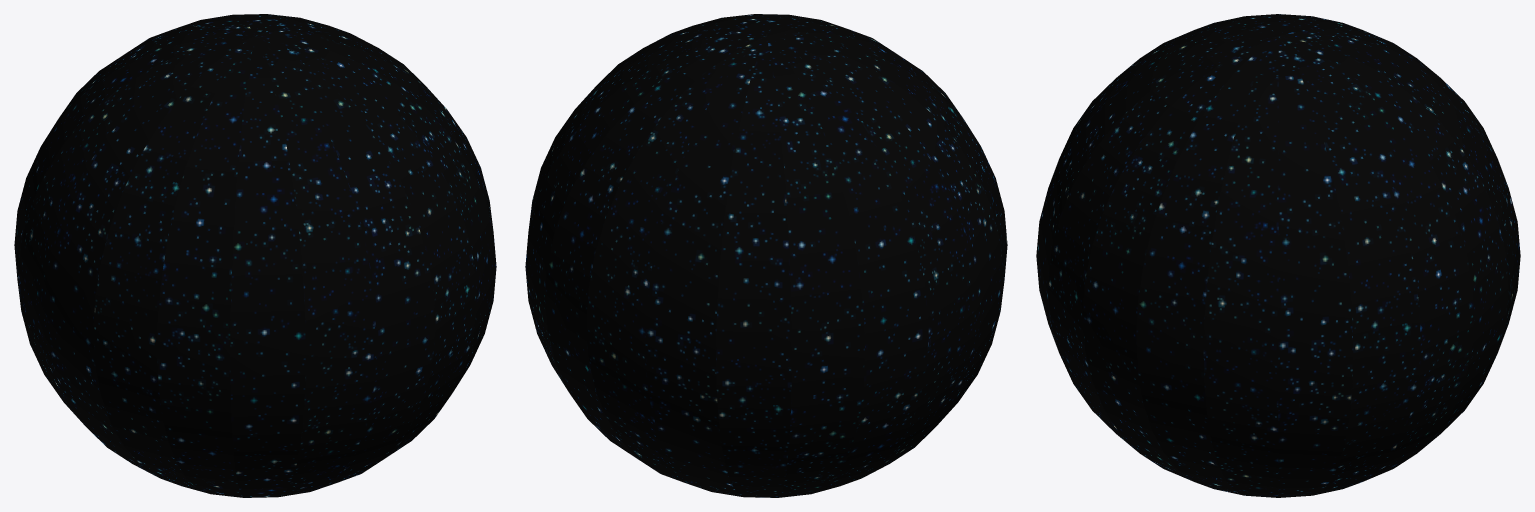
File: FinalKingBeyondSky.fbx
The picture shows the model from 3 angles, left to right: view 1: azimuth 30°, elevation 25°; view 2: azimuth 150°, elevation 25°; view 3: azimuth 270°, elevation 25°; orthographic projection.
Parts seen in each view (by area): view 1: mesh-0; view 2: mesh-0; view 3: mesh-0.
Boxes of the visible parts, x1,y1,x2,y2 form: mesh-0: (14,14,496,497); mesh-0: (525,14,1007,497); mesh-0: (1036,14,1520,497).
Bounding box in the file's own units: 5.98e+07 × 5.98e+07 × 5.98e+07.
Materials: 2 (2 with a texture image).
